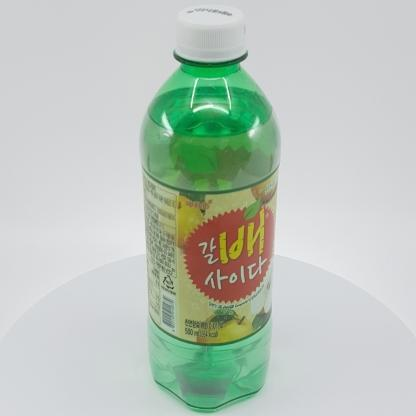-------500ML: (139, 4, 281, 411)
